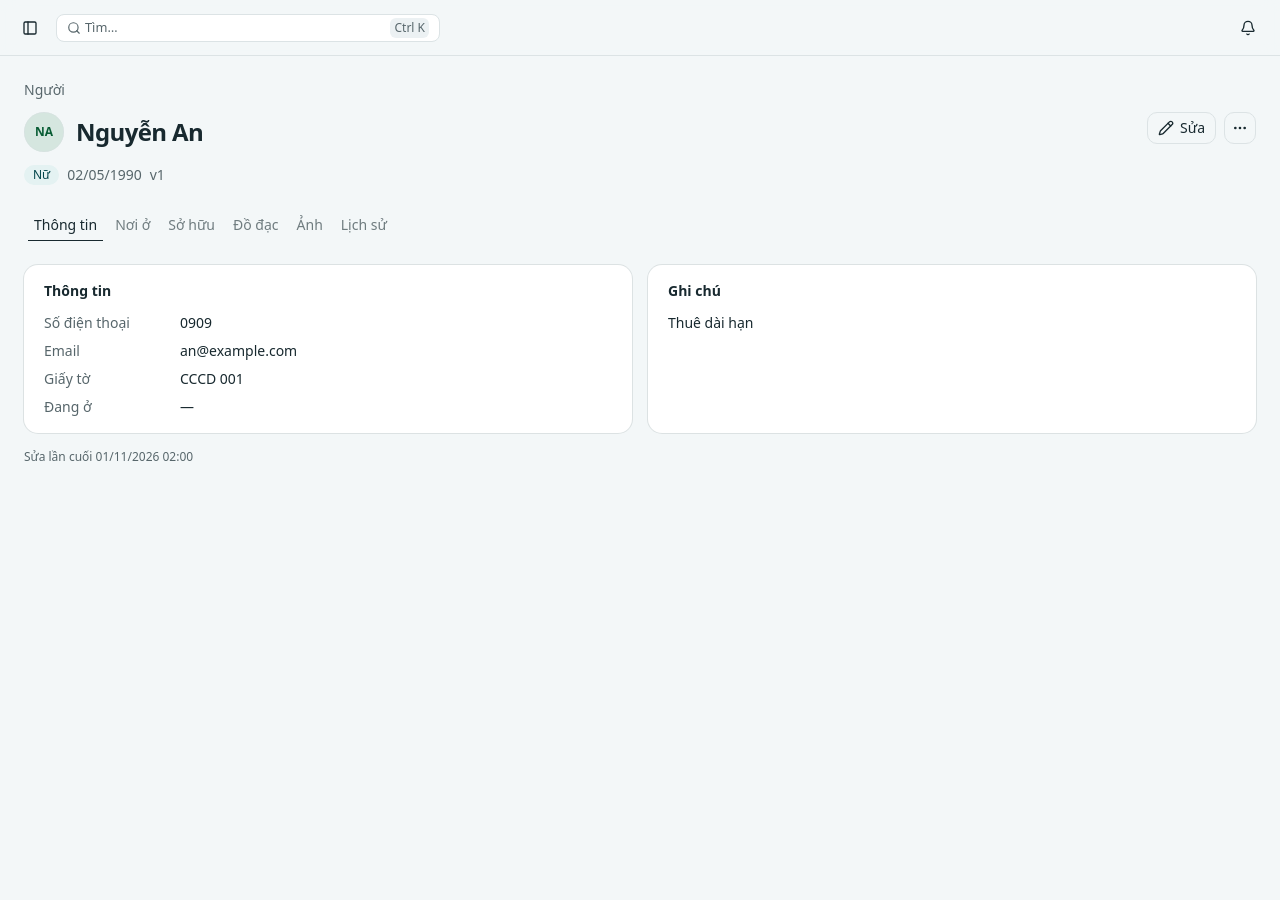
editRenamesTheHeader
The image size is (1280, 900).
Click the button "Sửa" at {"x": 1182, "y": 128}, box [1147,112,1216,144]
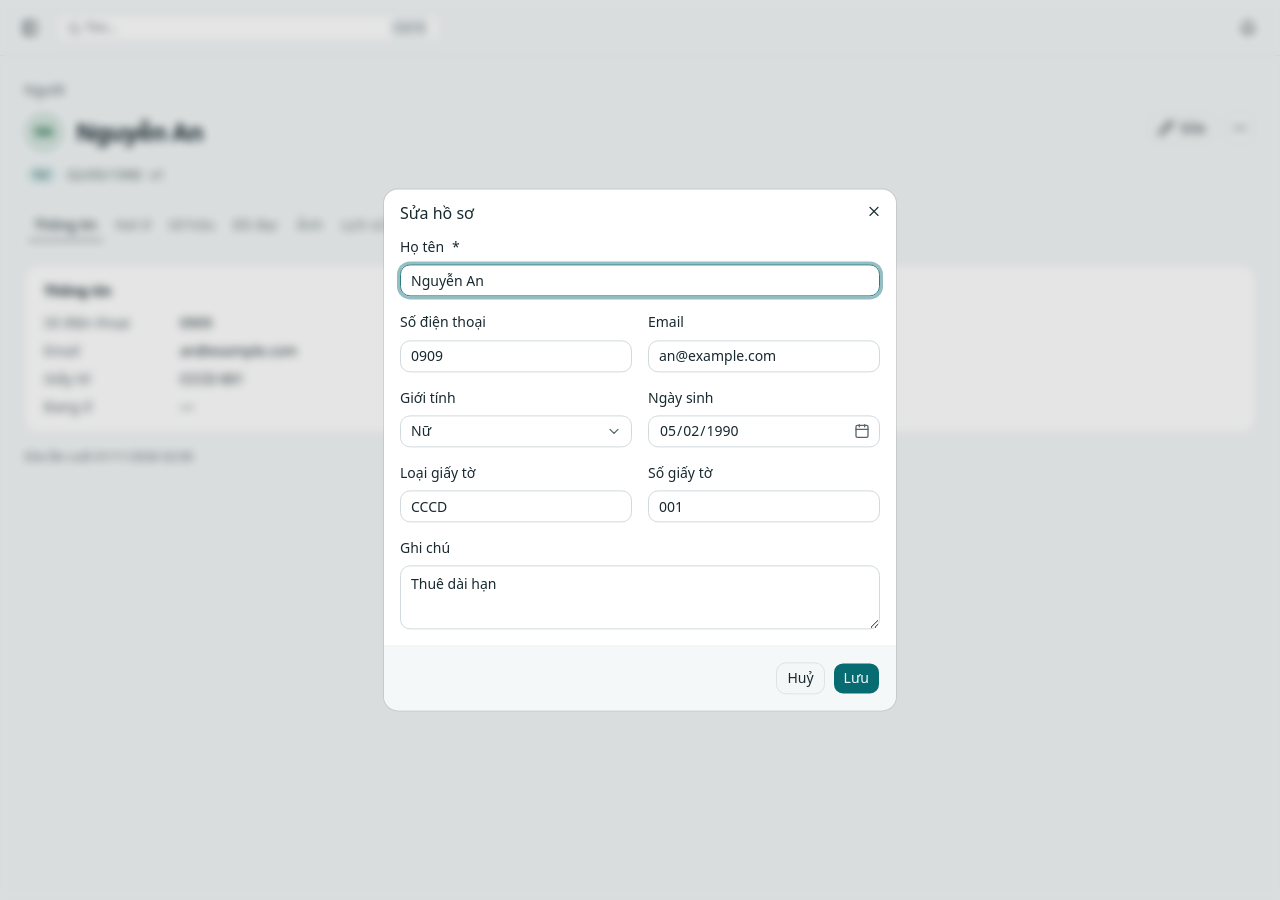
Replace the text in the field labelled "Họ tên" with "Nguyễn Thị An" at {"x": 640, "y": 281}, box [400,265,880,297]
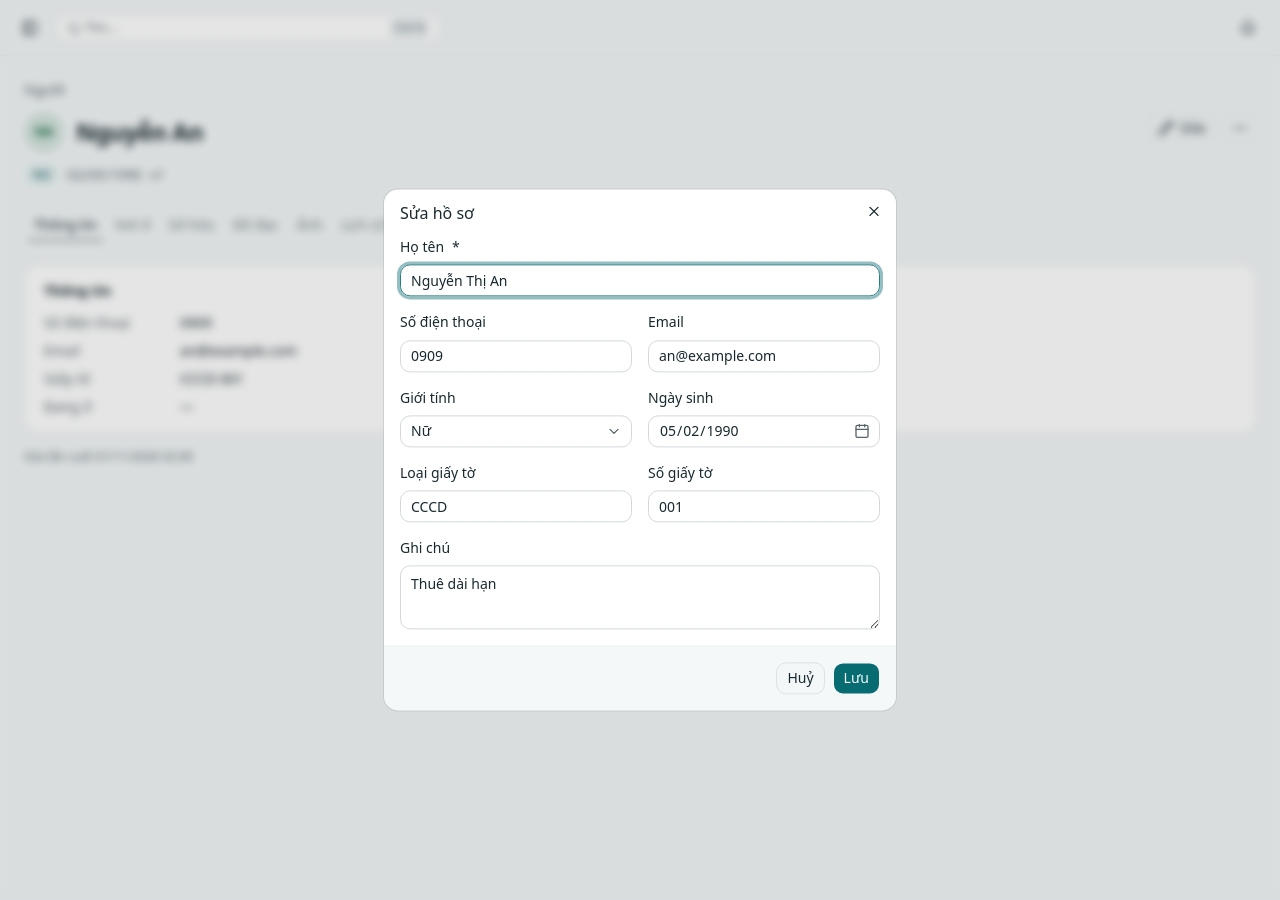
Click the button "Lưu" at {"x": 856, "y": 679}, box [833,663,880,695]
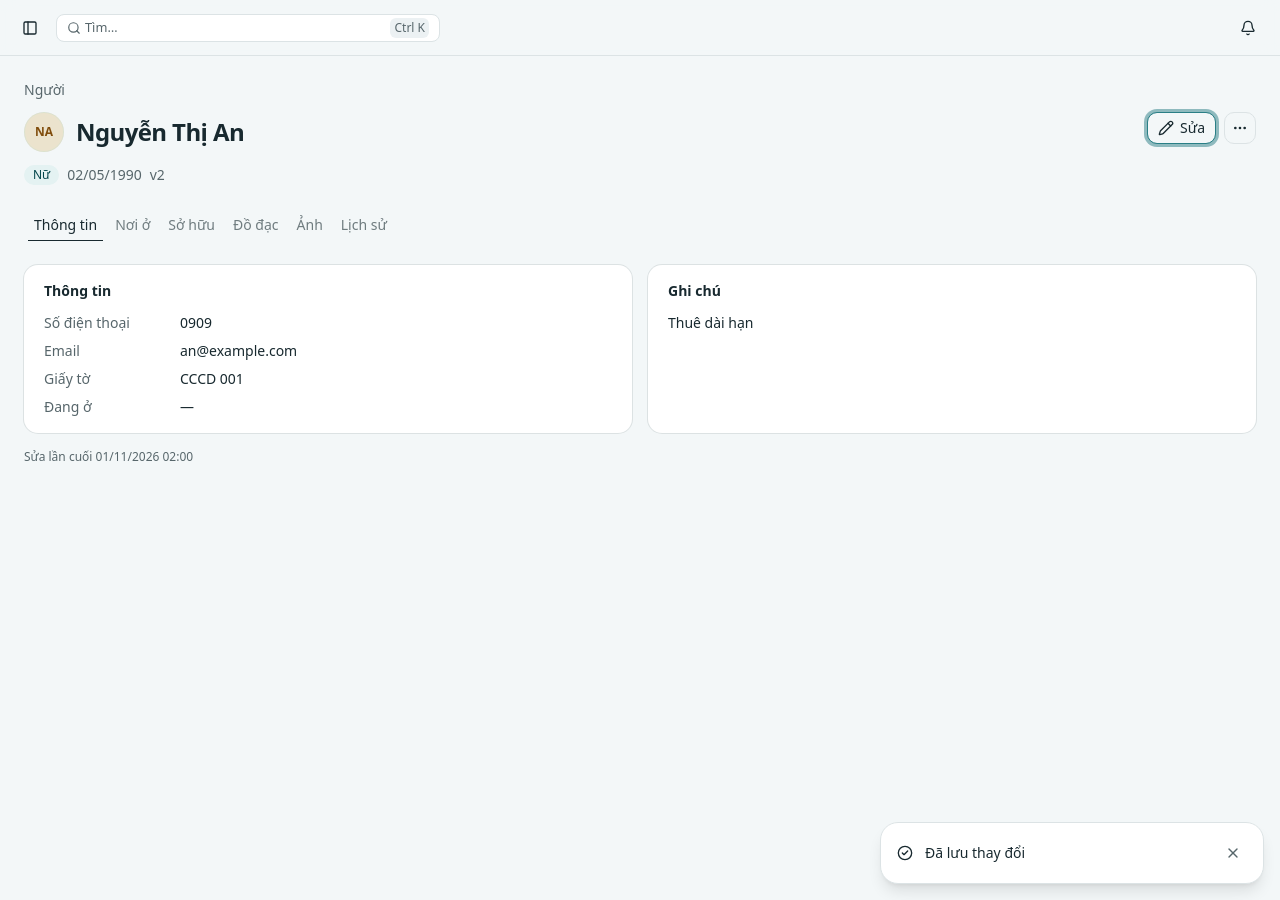
Expected: the heading "Nguyễn Thị An" is shown, [76,116,244,148]
